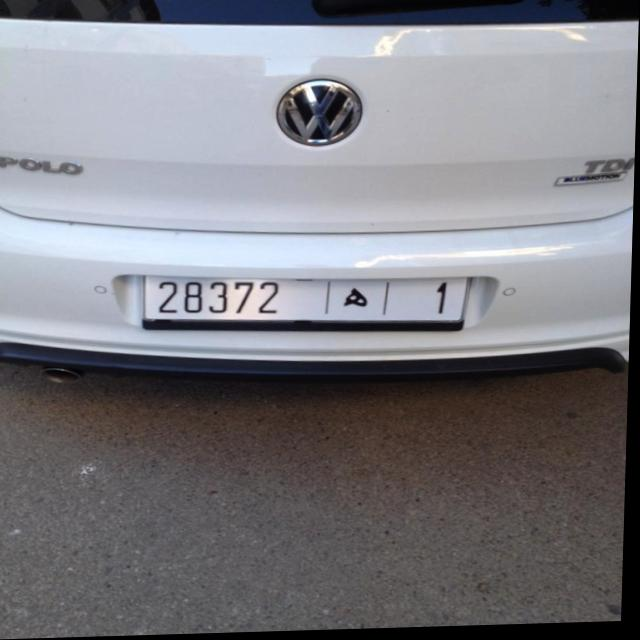License-Plate: (146, 276, 471, 334)
